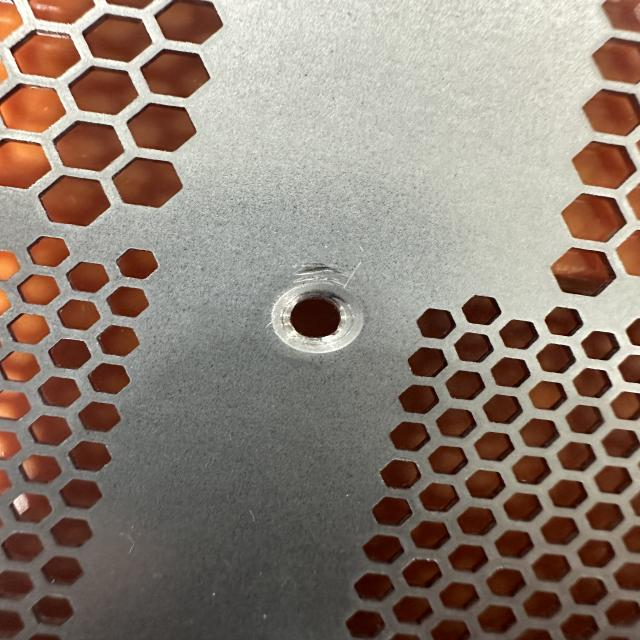Missing screw: (255, 273, 381, 362)
